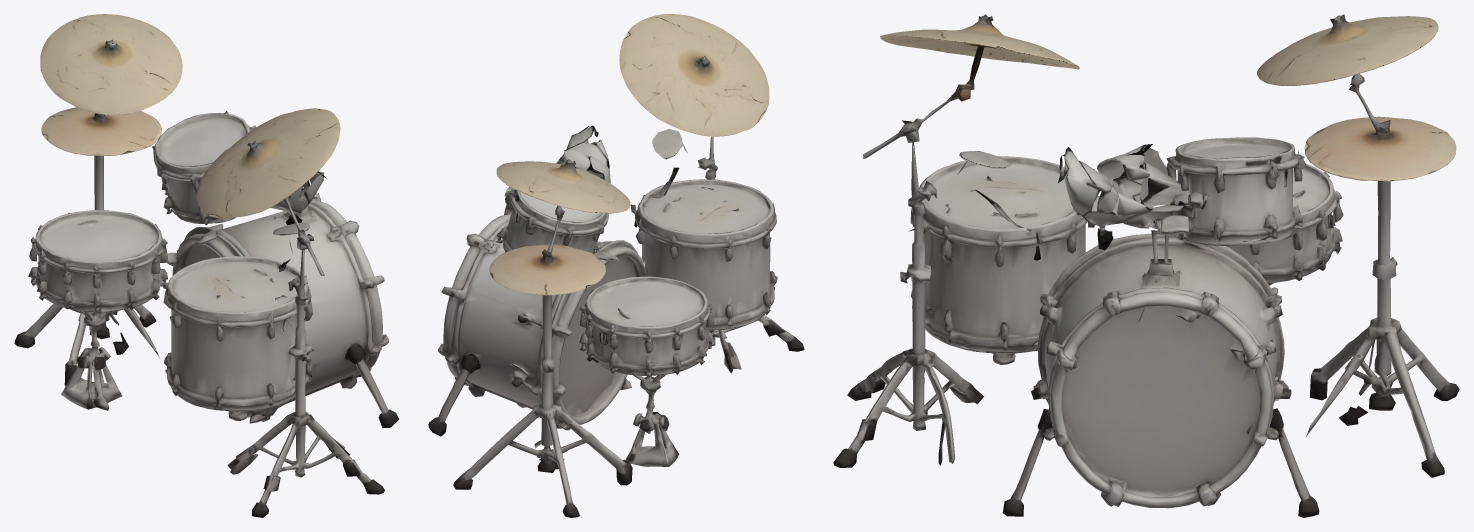
The model's file is drums.glb.
3 renders of one model, left to right at view 1: azimuth 30°, elevation 25°; view 2: azimuth 150°, elevation 25°; view 3: azimuth 270°, elevation 25°, orthographic. The views are drawn at different scales.
Visible parts, largest first — view 1: tripo_node_2731bf7e-3cff-47a1-89d7-23a1b41b0f0b; view 2: tripo_node_2731bf7e-3cff-47a1-89d7-23a1b41b0f0b; view 3: tripo_node_2731bf7e-3cff-47a1-89d7-23a1b41b0f0b.
Part boxes in pixels (bbox=[...]): tripo_node_2731bf7e-3cff-47a1-89d7-23a1b41b0f0b: bbox=[14, 14, 399, 517]; tripo_node_2731bf7e-3cff-47a1-89d7-23a1b41b0f0b: bbox=[428, 14, 804, 517]; tripo_node_2731bf7e-3cff-47a1-89d7-23a1b41b0f0b: bbox=[833, 14, 1459, 517].
Bounding box in the file's own units: 0.6438 × 0.7694 × 1.
Materials: 1 (1 with a texture image).
